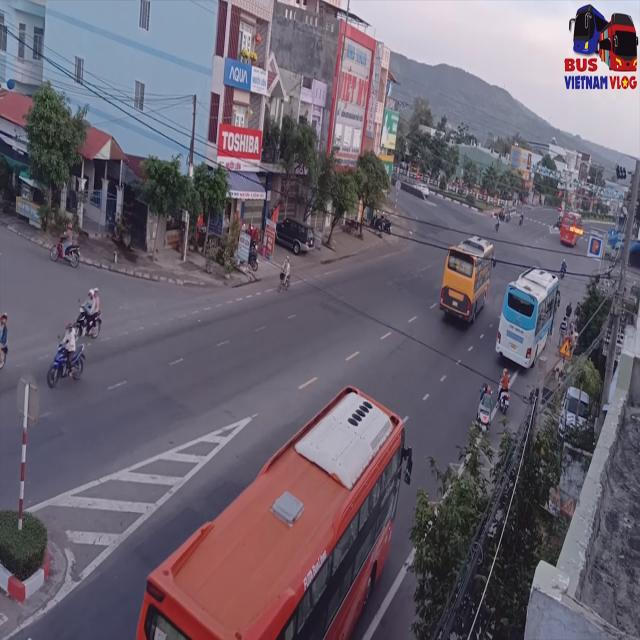bus: (132, 389, 410, 640), (497, 268, 562, 372), (439, 232, 493, 333), (560, 212, 582, 247)
motorbike: (50, 322, 86, 390), (74, 286, 102, 338), (476, 380, 493, 435), (0, 304, 8, 406), (497, 371, 511, 416)
